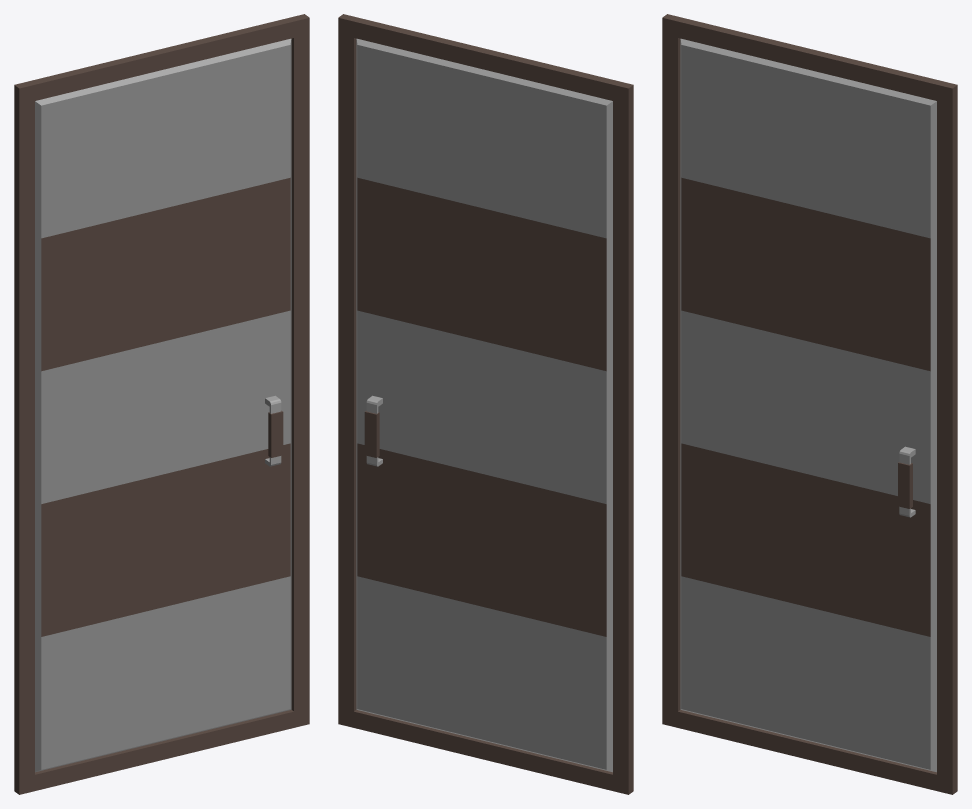
Rendered from door006.glb.
3 renders of one model, left to right at view 1: azimuth 30°, elevation 25°; view 2: azimuth 150°, elevation 25°; view 3: azimuth 330°, elevation 25°, orthographic.
Visible parts, largest first — view 1: door.006; view 2: door.006; view 3: door.006.
Boxes of the visible parts, bbox=[...] form: door.006: bbox=[14, 14, 309, 794]; door.006: bbox=[338, 14, 633, 794]; door.006: bbox=[662, 14, 957, 794].
Bounding box in the file's own units: 0.8604 × 2 × 0.1102.
1 material, 1 textured.
